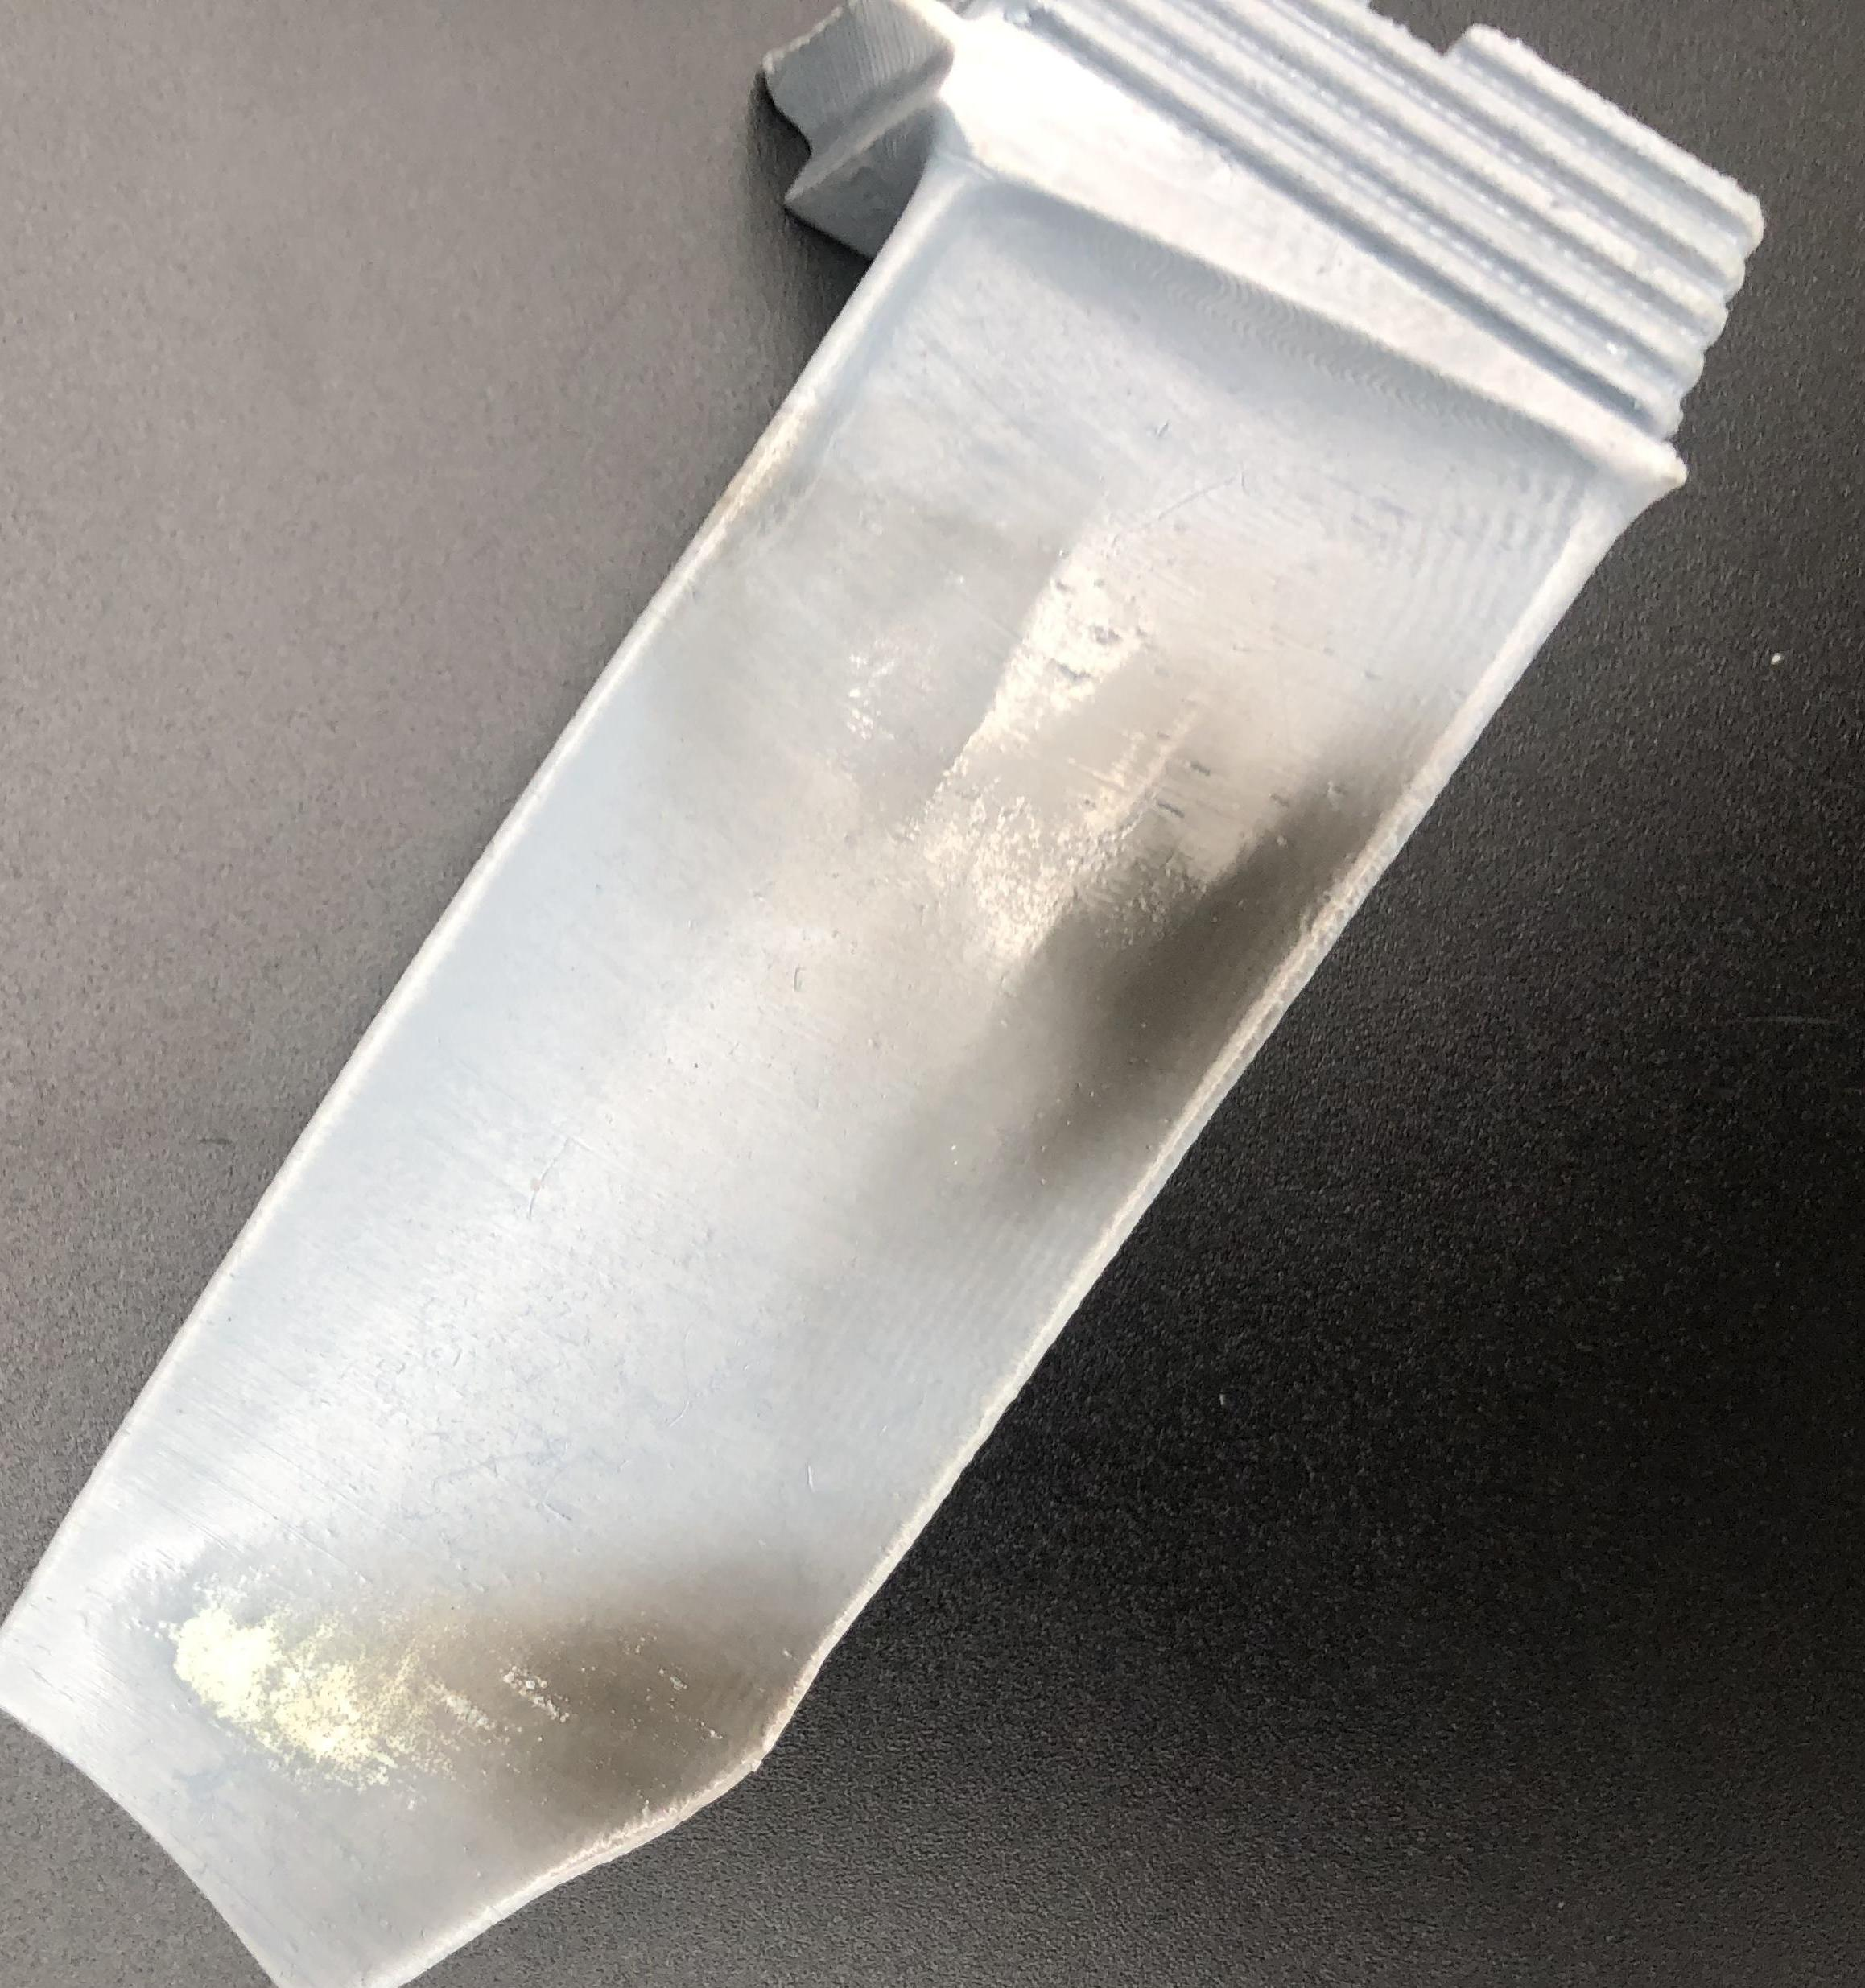ablation: (826, 621, 1329, 1062), (277, 1606, 782, 1799)
